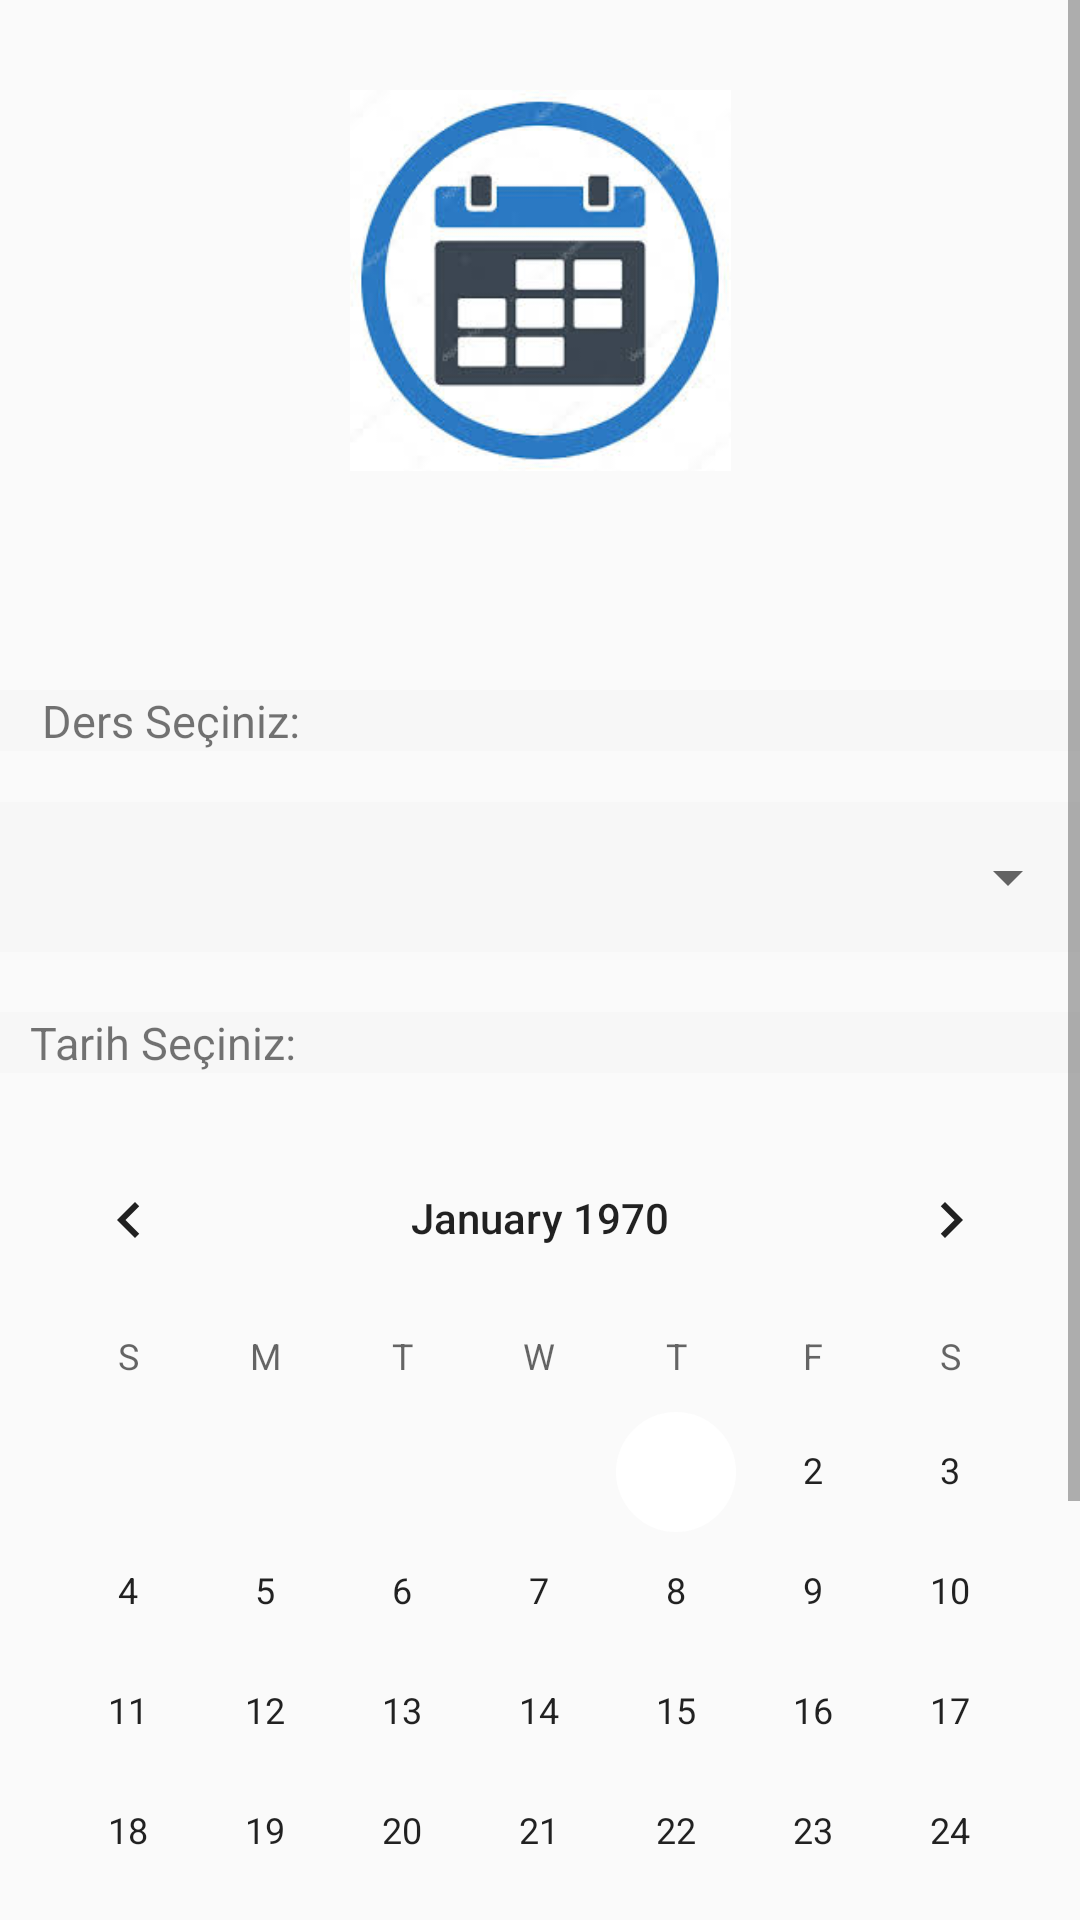

Where icons sit on this 1080px×1920px app screen, as [x1, y1, x2, y2]:
date: [361, 101, 719, 460]
